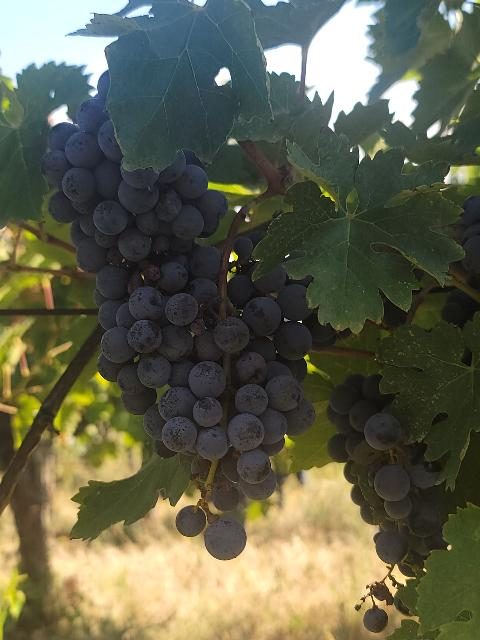grapes: (40, 75, 228, 415), (144, 280, 319, 560), (326, 374, 442, 564)
